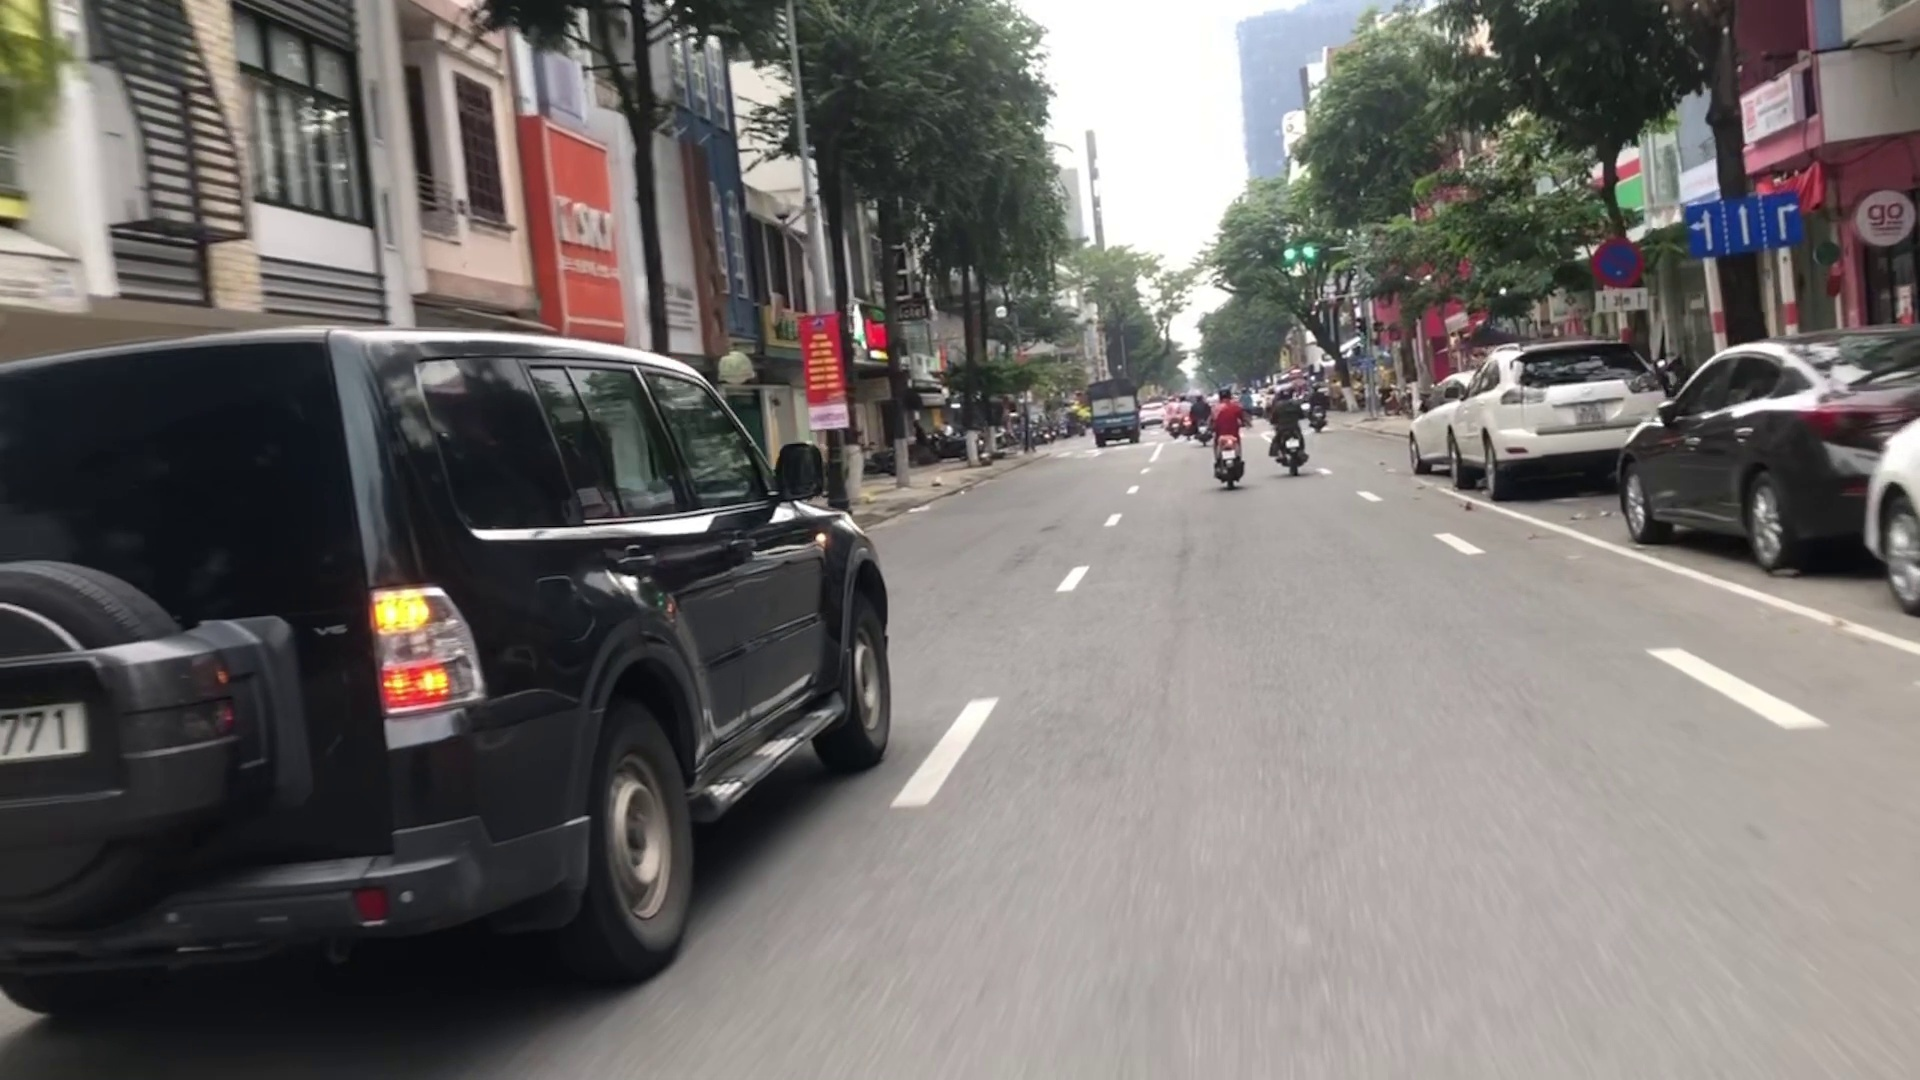Bien khac: (1681, 194, 1807, 255)
Cam do xe: (1592, 233, 1640, 287)
